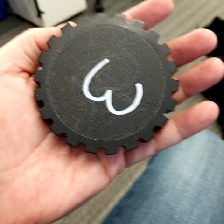gear: (32, 11, 180, 156)
